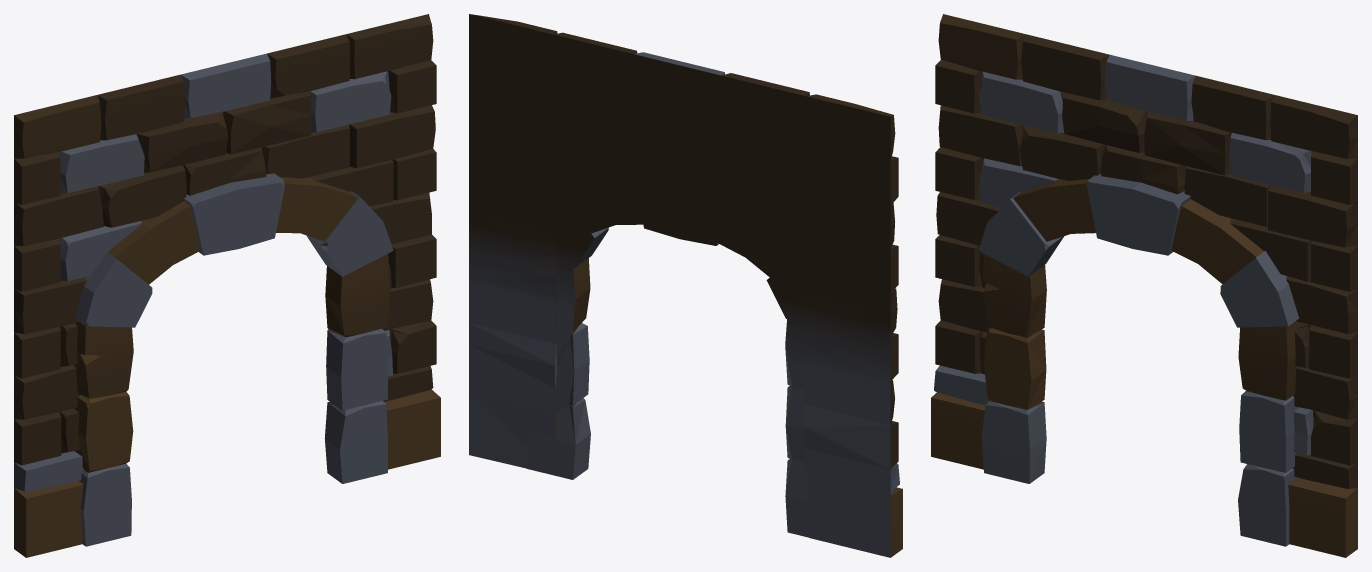
Rendered from Wall_34.fbx.
3 views of the same model, side by side, from view 1: azimuth 30°, elevation 25°; view 2: azimuth 150°, elevation 25°; view 3: azimuth 330°, elevation 25° (orthographic).
Visible parts, largest first — view 1: Wall_34; view 2: Wall_34; view 3: Wall_34.
Boxes of the visible parts, <box> form: Wall_34: <box>14,14,440,557</box>; Wall_34: <box>469,14,902,557</box>; Wall_34: <box>931,14,1357,557</box>.
Bounding box in the file's own units: 4 × 4 × 0.3187.
